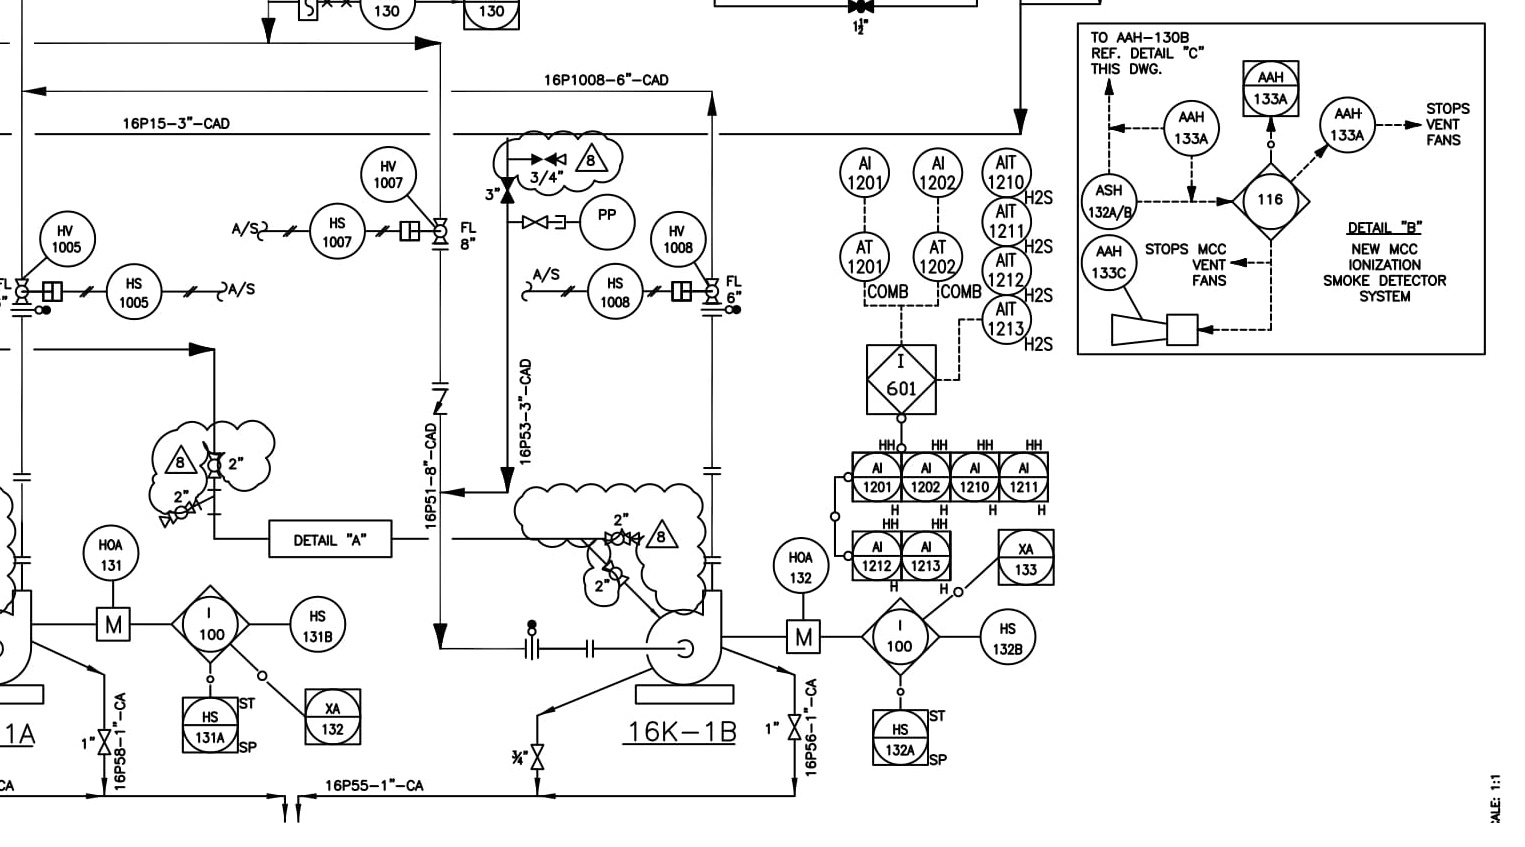Inline Instrument: (76, 522, 145, 585), (976, 607, 1041, 671), (287, 592, 350, 656), (306, 198, 369, 261), (101, 260, 164, 323), (836, 143, 899, 205), (906, 141, 969, 204), (1079, 167, 1142, 229), (1316, 93, 1379, 156), (836, 223, 898, 286), (907, 222, 970, 285), (1160, 99, 1223, 162)
Panel Instrument: (177, 689, 242, 758), (299, 683, 364, 752), (1239, 52, 1304, 121), (993, 519, 1058, 588), (870, 703, 935, 772), (849, 527, 904, 589), (848, 446, 903, 508), (946, 447, 1001, 509)
